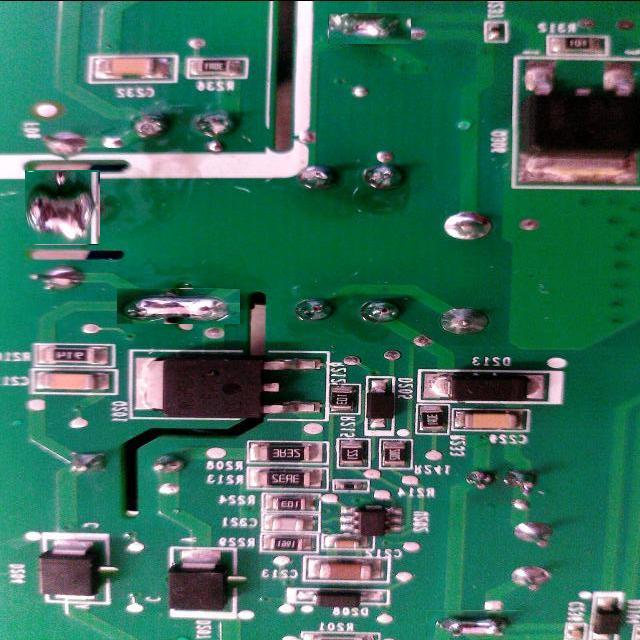Short_circuit: (25, 170, 100, 245), (117, 288, 240, 324), (328, 12, 411, 44), (426, 610, 524, 636)
